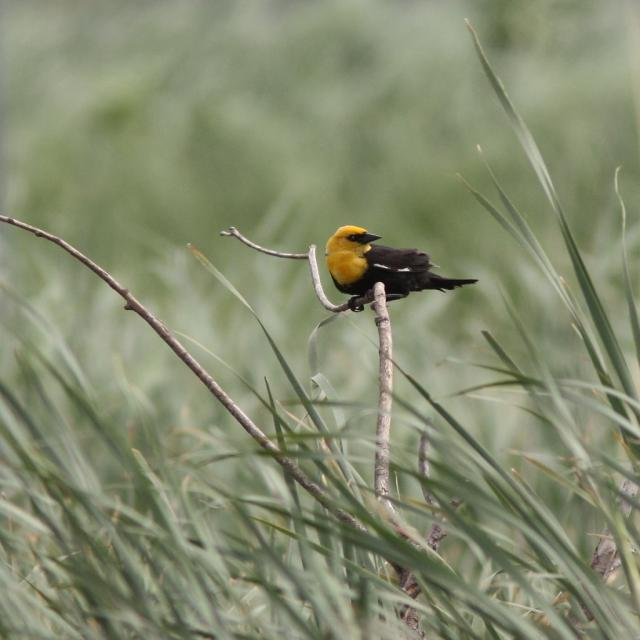bird: (317, 220, 477, 324)
